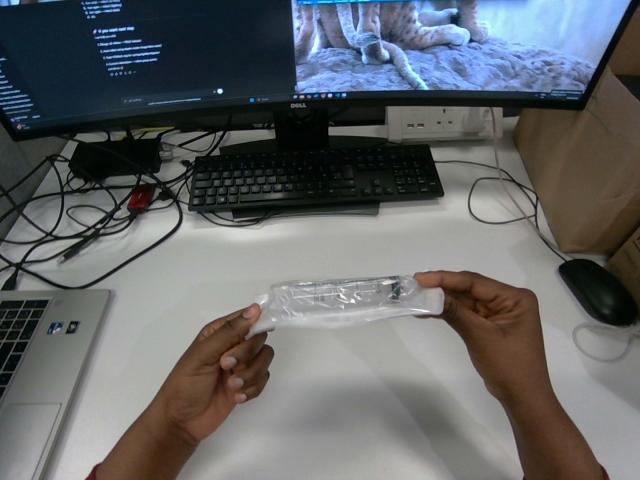syringe: (249, 276, 444, 335)
